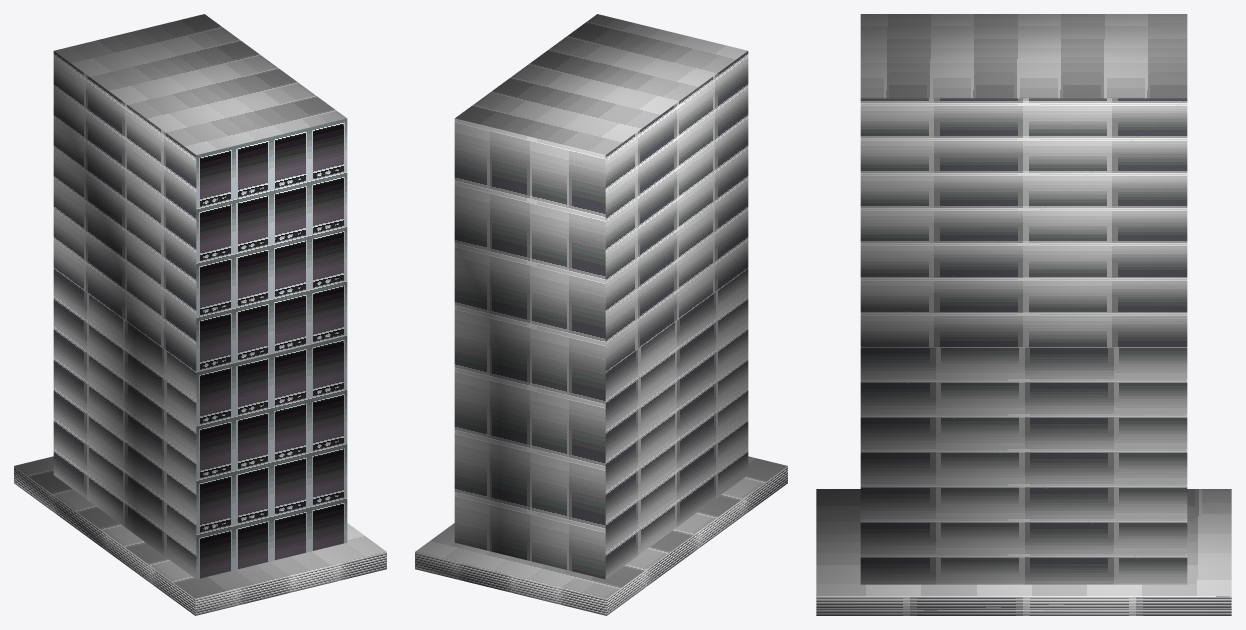
File: 3503IMEL01_20a.gltf
3 views of the same model, side by side, from view 1: azimuth 30°, elevation 25°; view 2: azimuth 150°, elevation 25°; view 3: azimuth 270°, elevation 25° (orthographic). The views are drawn at different scales.
Visible parts, largest first — view 1: 3503IMEL01_20a; view 2: 3503IMEL01_20a; view 3: 3503IMEL01_20a.
Part boxes in pixels (x1=…): 3503IMEL01_20a: x1=14, y1=14, x2=386, y2=615; 3503IMEL01_20a: x1=415, y1=14, x2=787, y2=615; 3503IMEL01_20a: x1=816, y1=14, x2=1231, y2=615.
Size of the model in its own units: 0.5186 by 1.14 by 0.8496.
2 materials, 2 textured.
